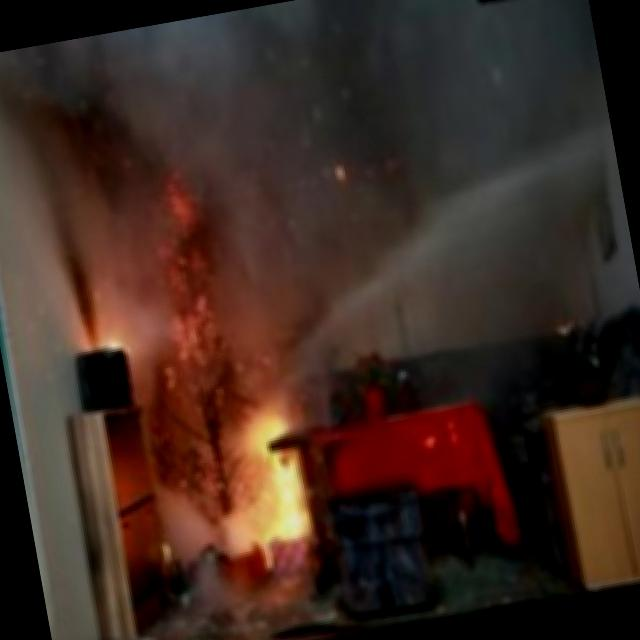fire: (130, 361, 351, 596)
